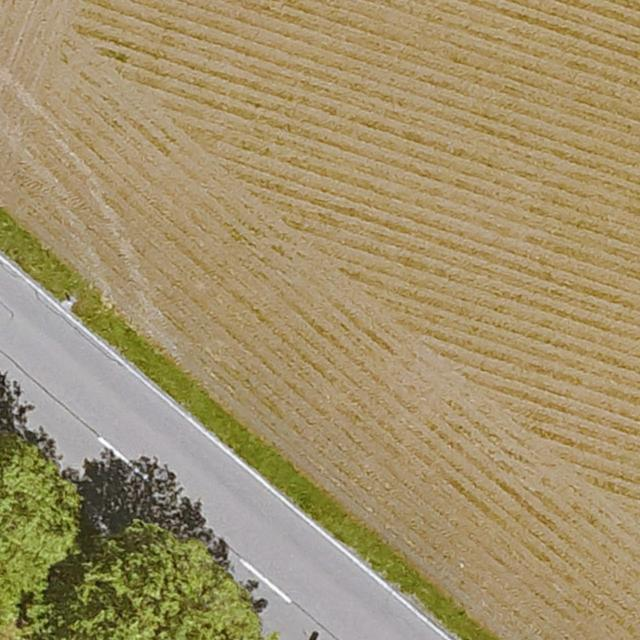tree: (63, 530, 263, 640), (0, 430, 62, 615)
